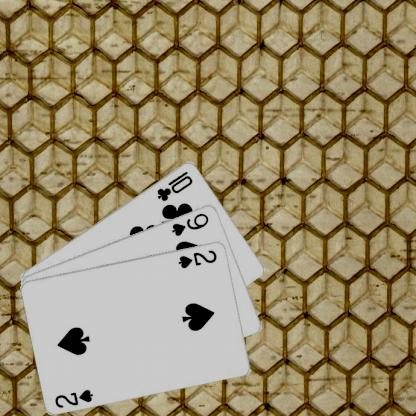10C: (154, 168, 194, 203)
2S: (52, 386, 95, 409), (176, 247, 218, 270)
9S: (169, 210, 210, 237)
